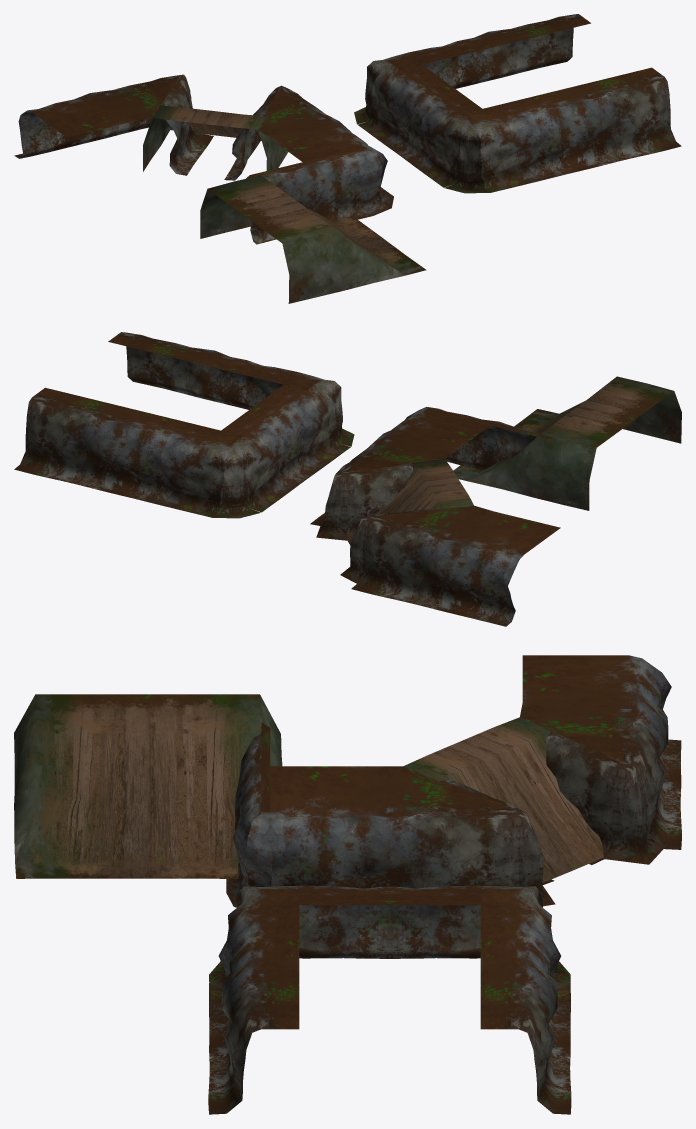
File: Stage_Block_2_5.fbx
3 views of the same model, one above another, from view 1: azimuth 30°, elevation 25°; view 2: azimuth 150°, elevation 25°; view 3: azimuth 270°, elevation 25° (orthographic). The views are drawn at different scales.
Parts seen in each view (by area): view 1: Stage_Block_2_5; view 2: Stage_Block_2_5; view 3: Stage_Block_2_5.
Part boxes in pixels (x1=…): Stage_Block_2_5: x1=14, y1=14, x2=681, y2=303; Stage_Block_2_5: x1=14, y1=332, x2=681, y2=626; Stage_Block_2_5: x1=14, y1=655, x2=681, y2=1114.
Bounding box in the file's own units: 4808 × 511 × 3627.
Materials: 2 (2 with a texture image).
